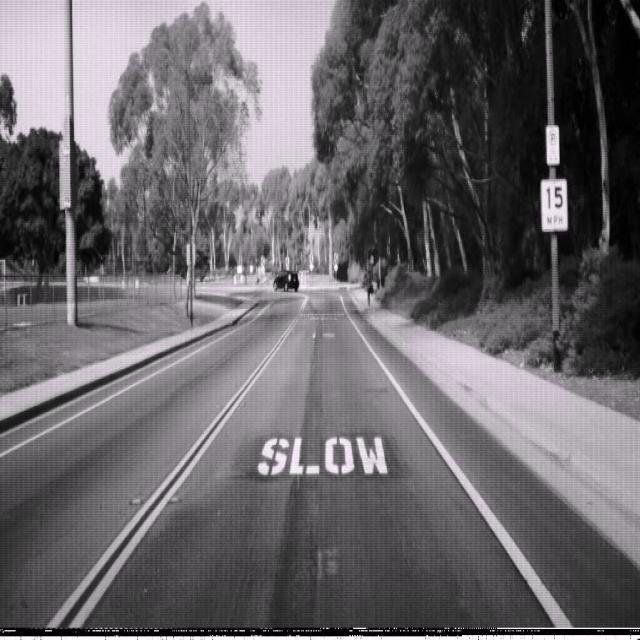speedLimit15: (540, 176, 569, 232)
